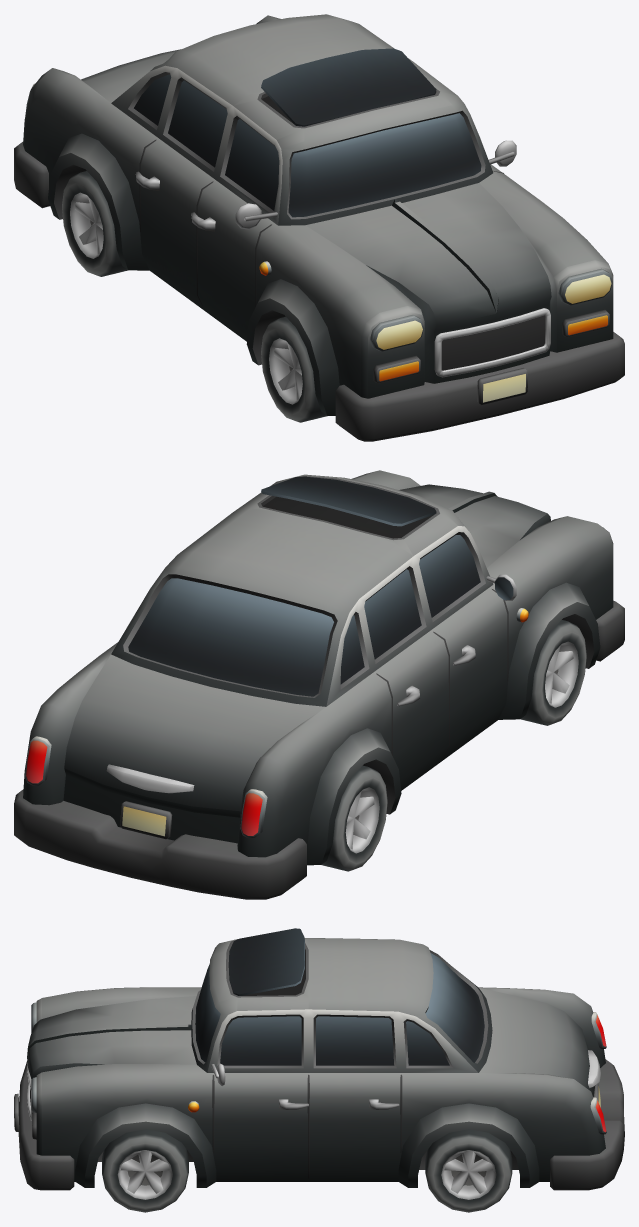
Rendered from Car_3C.fbx.
The picture shows the model from 3 angles, top to bottom: view 1: azimuth 30°, elevation 25°; view 2: azimuth 150°, elevation 25°; view 3: azimuth 270°, elevation 25°; orthographic projection. The views are drawn at different scales.
Visible parts, largest first — view 1: Car_3C, Wheel_3C_R.R, Wheel_3C_F.R; view 2: Car_3C, Wheel_3C_F.R, Wheel_3C_R.R; view 3: Car_3C, Wheel_3C_R.L, Wheel_3C_F.L.
Boxes of the visible parts, x1,y1,x2,y2 form: Car_3C: (14,14,624,441); Wheel_3C_R.R: (62,171,128,276); Wheel_3C_F.R: (261,316,327,422); Car_3C: (14,470,624,899); Wheel_3C_F.R: (520,620,586,725); Wheel_3C_R.R: (321,765,387,871); Car_3C: (14,928,624,1190); Wheel_3C_R.L: (425,1129,512,1212); Wheel_3C_F.L: (102,1129,188,1212).
Bounding box in the file's own units: 2.43 × 2.12 × 5.62.
